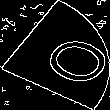O_NW: (10, 23, 100, 87)
